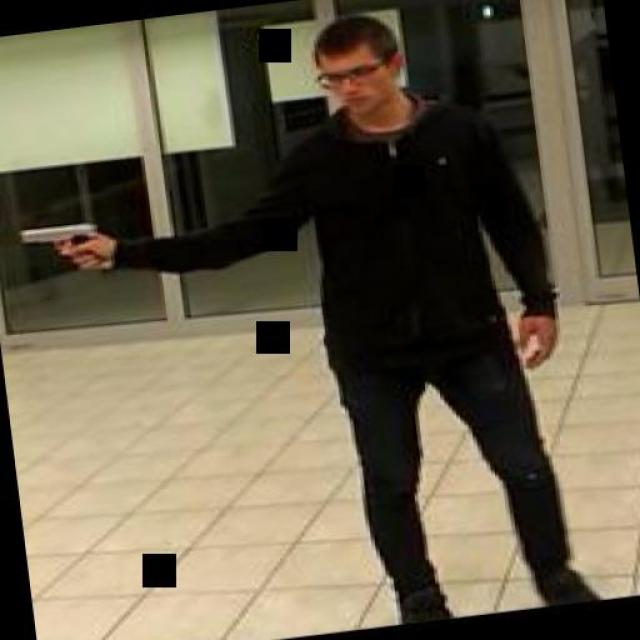gun: (13, 212, 112, 276)
